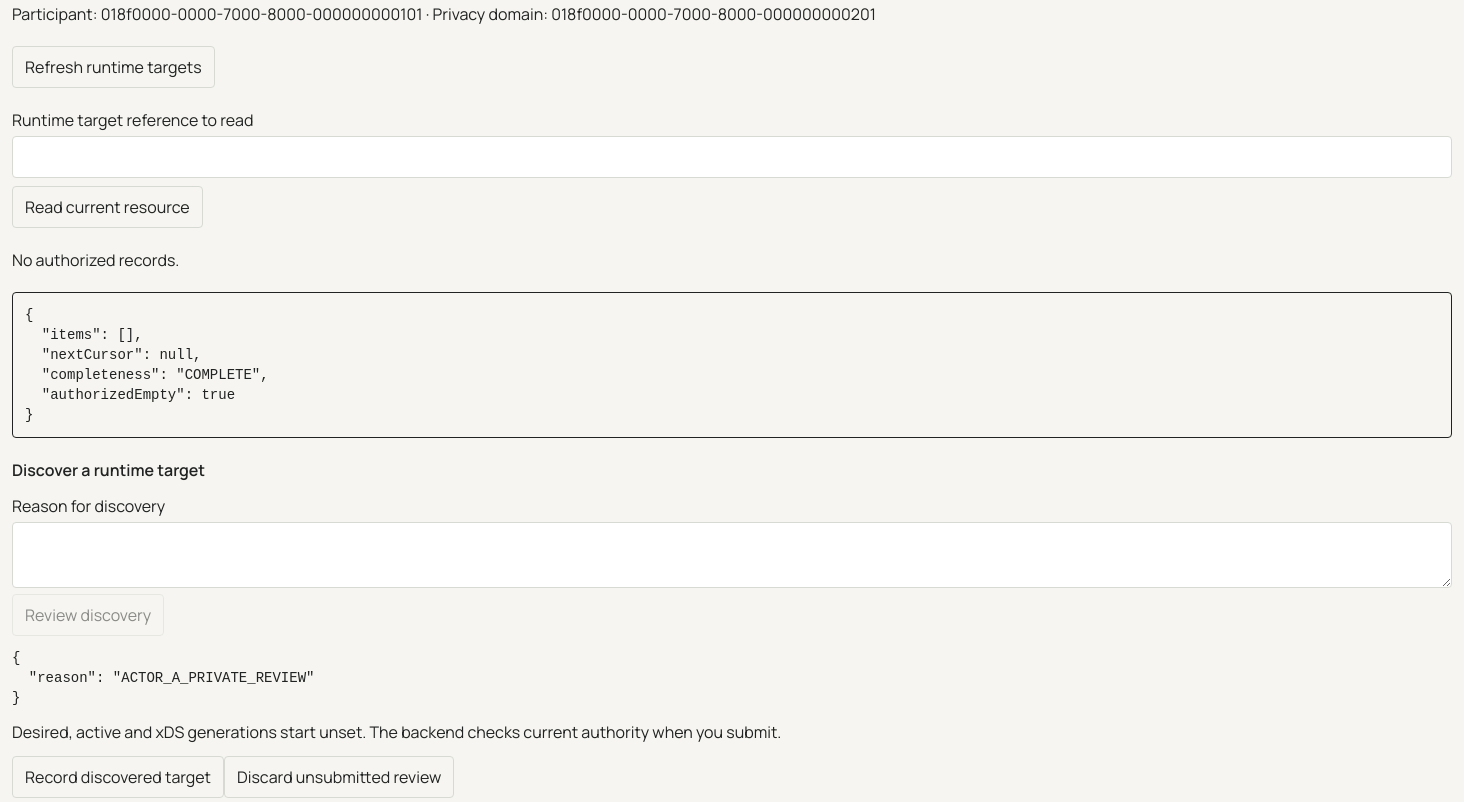
Test case: preserves the current workspace after the previous actor command rejects
This screenshot has width=1464, height=802.
(page scrolled)
Expected: the text "{ \"reason\": \"ACTOR_A_PRIVATE_REVIEW\" }" is shown, [12,650,314,706]
Click the button "Record discovered target" at (118, 777), box [12,756,224,798]
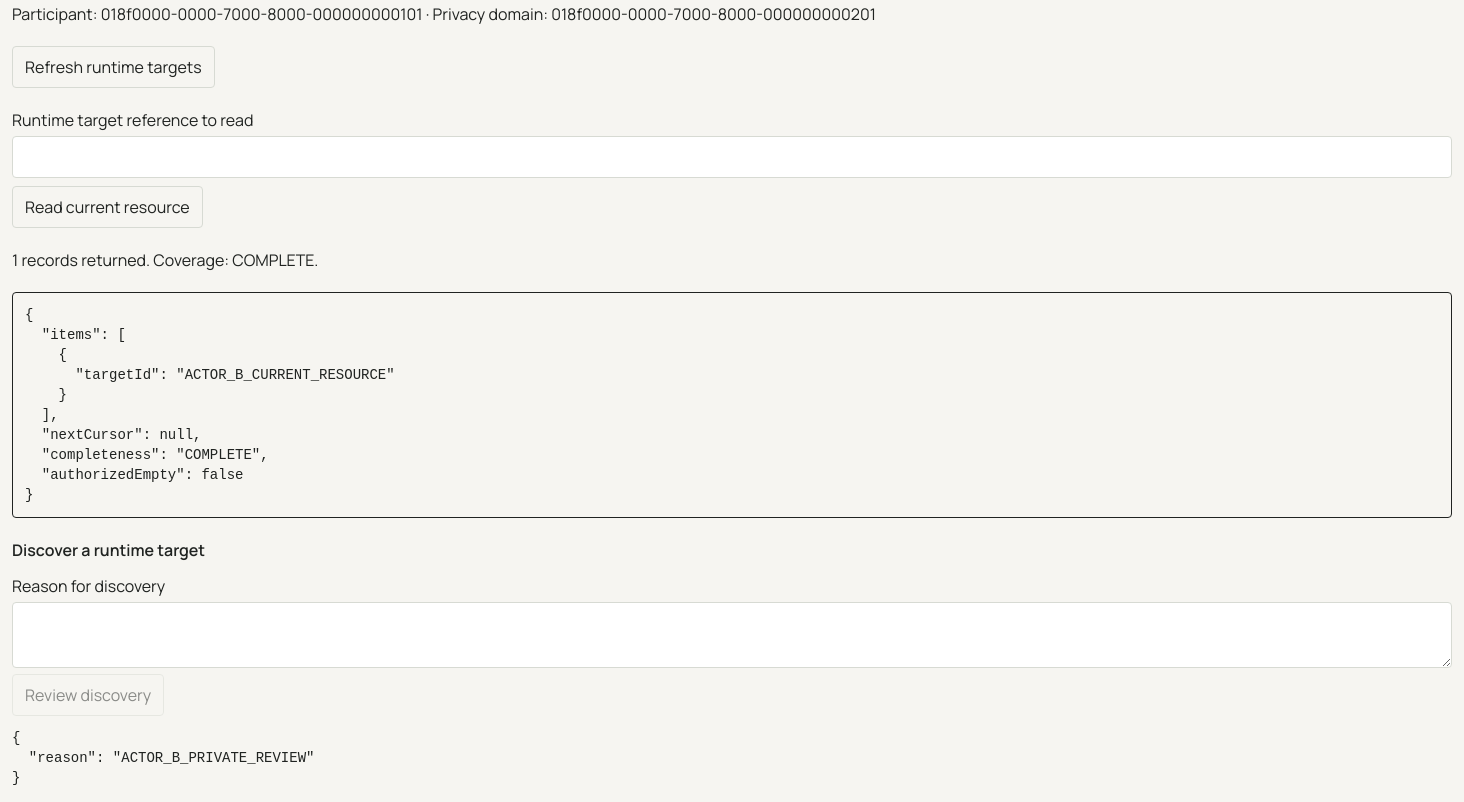
Expected: the text "ACTOR_B_CURRENT_RESOURCE" is shown, [25,307,395,503]
Expected: the text "ACTOR_A_PRIVATE_REVIEW" is gone
Expected: the text "{ \"reason\": \"ACTOR_B_PRIVATE_REVIEW\" }" is shown, [12,730,314,786]
